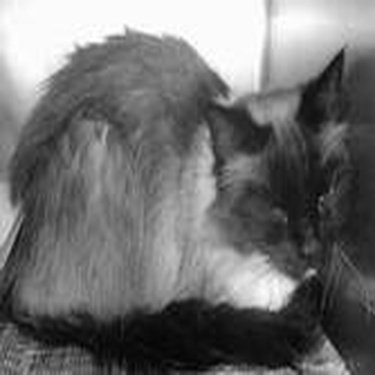cat: (9, 23, 367, 356)
